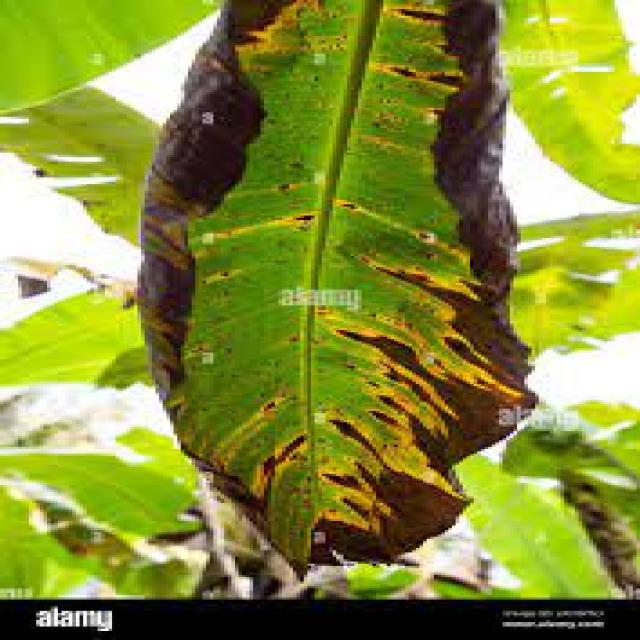Early_rust: (114, 0, 544, 574)
